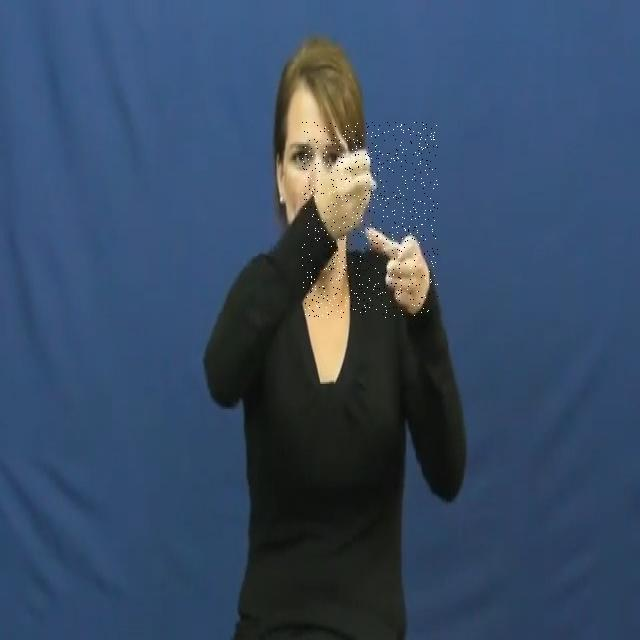lactose: (302, 122, 438, 318)
